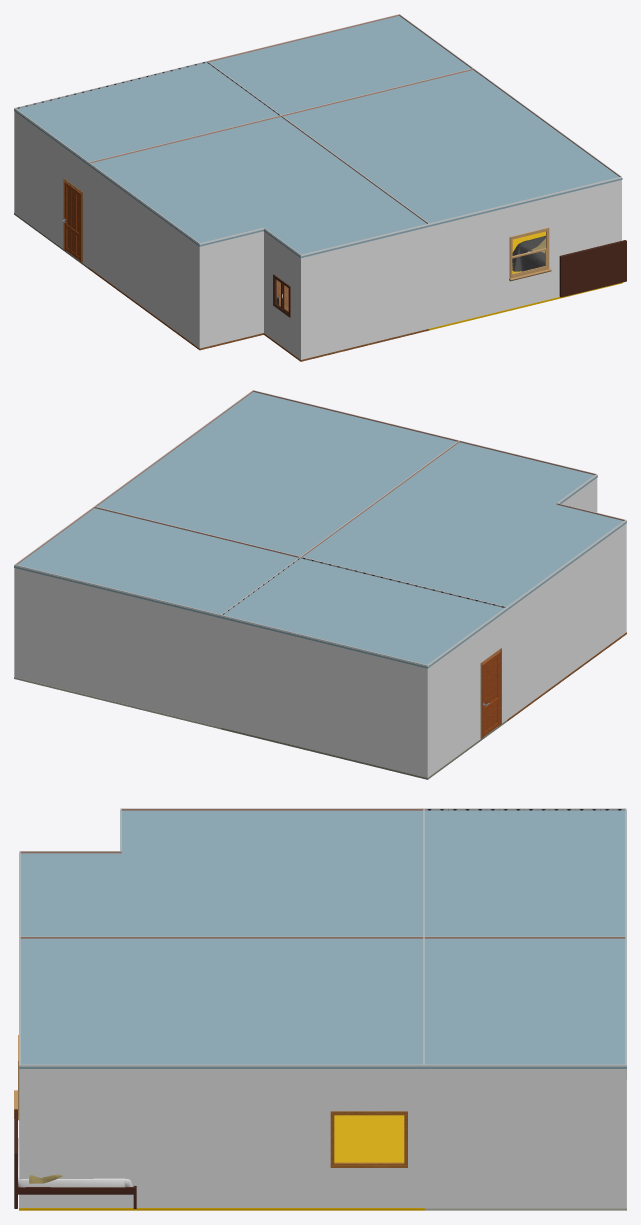
The model's file is ProcTHOR-Train-163.glb.
3 renders of one model, top to bottom at view 1: azimuth 30°, elevation 25°; view 2: azimuth 150°, elevation 25°; view 3: azimuth 270°, elevation 25°, orthographic. The views are drawn at different scales.
Parts seen in each view (by area): view 1: Ceiling#room|4|c, Ceiling#room|6|c, WallInside#wall|exterior|0.00|11.94|5.97|11.94, Ceiling#room|7|c, Ceiling#room|5|c, WallInside#wall|exterior|5.97|11.94|9.95|11.94, WallInside#wall|exterior|11.94|3.98|11.94|9.95, WallInside#wall|exterior|9.95|9.95|11.94|9.95, WallInside#wall|exterior|11.94|0.00|11.94|3.98, Bed_30, WallInside#wall|exterior|9.95|9.95|9.95|11.94, Doorway_10 (+3 smaller); view 2: Ceiling#room|4|c, Ceiling#room|6|c, WallInside#wall|exterior|0.00|0.00|5.97|0.00, WallInside#wall|exterior|5.97|0.00|11.94|0.00, Ceiling#room|7|c, Ceiling#room|5|c, WallInside#wall|exterior|11.94|3.98|11.94|9.95, WallInside#wall|exterior|11.94|0.00|11.94|3.98, Doorway_10, WallInside#wall|exterior|9.95|9.95|9.95|11.94, Floor#room|7|f, Floor#room|5|f; view 3: Ceiling#room|4|c, WallInside#wall|exterior|0.00|3.98|0.00|11.94, Ceiling#room|6|c, WallInside#wall|exterior|0.00|0.00|0.00|3.98, Ceiling#room|5|c, Ceiling#room|7|c, Floor#room|4|f, Bed_30, Window_Fixed_60x48, WallInside#wall|4|5.97|3.98|5.97|11.94, WallInside#wall|6|11.94|3.98|11.94|9.95, Floor#room|5|f (+2 smaller).
Boxes of the visible parts, x1,y1,x2,y2 form: Ceiling#room|4|c: (283,70,622,226); Ceiling#room|6|c: (88,117,429,257); WallInside#wall|exterior|0.00|11.94|5.97|11.94: (429,176,621,328); Ceiling#room|7|c: (14,62,278,164); Ceiling#room|5|c: (209,16,471,114); WallInside#wall|exterior|5.97|11.94|9.95|11.94: (301,224,429,359); WallInside#wall|exterior|11.94|3.98|11.94|9.95: (88,162,199,348); WallInside#wall|exterior|9.95|9.95|11.94|9.95: (200,228,263,348); WallInside#wall|exterior|11.94|0.00|11.94|3.98: (14,108,88,266); Bed_30: (512,235,626,297); WallInside#wall|exterior|9.95|9.95|9.95|11.94: (264,228,300,359); Doorway_10: (62,178,82,263); Ceiling#room|4|c: (96,392,457,556); Ceiling#room|6|c: (302,442,626,610); WallInside#wall|exterior|0.00|0.00|5.97|0.00: (14,564,221,727); WallInside#wall|exterior|5.97|0.00|11.94|0.00: (220,615,427,777); Ceiling#room|7|c: (221,558,506,668); Ceiling#room|5|c: (14,508,299,618); WallInside#wall|exterior|11.94|3.98|11.94|9.95: (507,520,626,719); WallInside#wall|exterior|11.94|0.00|11.94|3.98: (427,607,507,777); Doorway_10: (480,648,501,739); WallInside#wall|exterior|9.95|9.95|9.95|11.94: (557,474,597,512); Floor#room|7|f: (220,719,507,779); Floor#room|5|f: (14,677,221,729); Ceiling#room|4|c: (19,938,424,1068); WallInside#wall|exterior|0.00|3.98|0.00|11.94: (19,1064,424,1207); Ceiling#room|6|c: (19,810,424,937); WallInside#wall|exterior|0.00|0.00|0.00|3.98: (423,1064,626,1207); Ceiling#room|5|c: (423,938,626,1068); Ceiling#room|7|c: (423,810,626,938); Floor#room|4|f: (19,1115,424,1210); Bed_30: (14,1109,136,1208); Window_Fixed_60x48: (330,1111,407,1167); WallInside#wall|4|5.97|3.98|5.97|11.94: (20,936,423,938); WallInside#wall|6|11.94|3.98|11.94|9.95: (121,808,424,810); Floor#room|5|f: (423,1079,626,1210).
Size of what is drawn, in the model's own units: 12.17 by 3.16 by 12.08.
259 materials, 104 textured.
